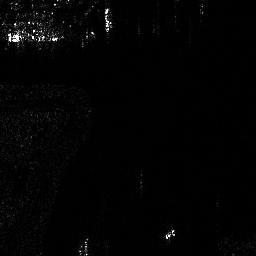ship: (4, 31, 64, 44), (103, 6, 113, 34), (165, 229, 176, 240)
